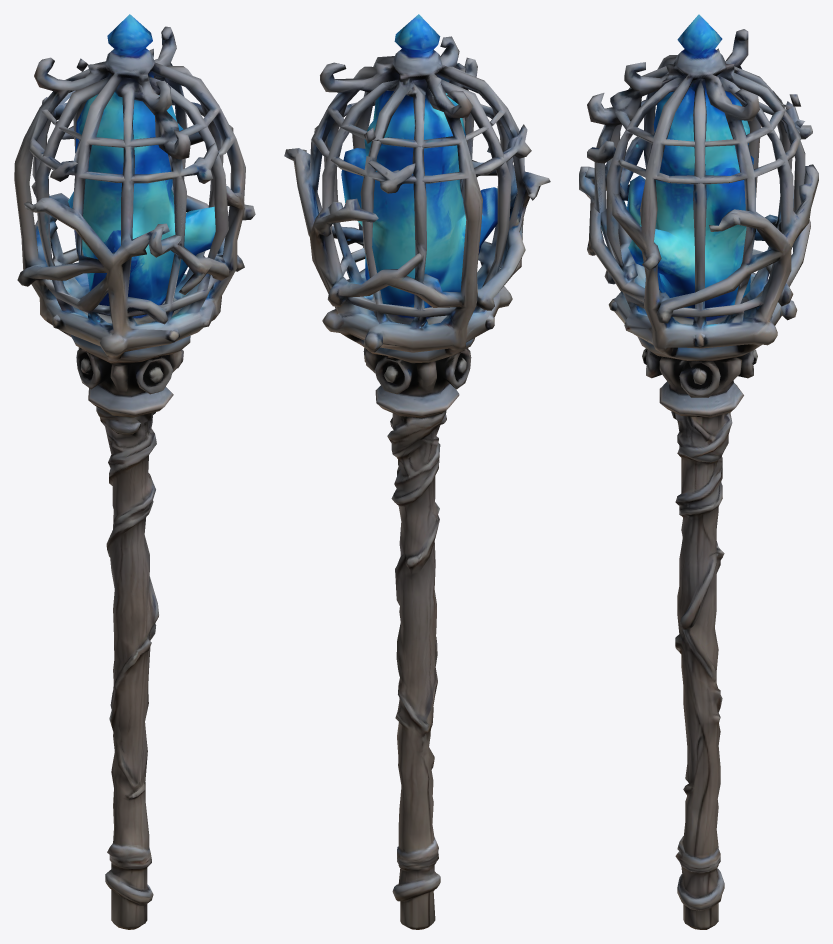
The picture shows the model from 3 angles, left to right: view 1: azimuth 30°, elevation 25°; view 2: azimuth 150°, elevation 25°; view 3: azimuth 270°, elevation 25°; orthographic projection.
Visible parts, largest first — view 1: tripo_node_5a33af1d-84e2-4e67-a807-fd654271f212; view 2: tripo_node_5a33af1d-84e2-4e67-a807-fd654271f212; view 3: tripo_node_5a33af1d-84e2-4e67-a807-fd654271f212.
Boxes of the visible parts, x1,y1,x2,y2 form: tripo_node_5a33af1d-84e2-4e67-a807-fd654271f212: (14, 14, 255, 929); tripo_node_5a33af1d-84e2-4e67-a807-fd654271f212: (284, 14, 550, 929); tripo_node_5a33af1d-84e2-4e67-a807-fd654271f212: (579, 14, 818, 929).
Size of the model in its own units: 0.2603 by 1 by 0.2387.
Materials: 1 (1 with a texture image).
